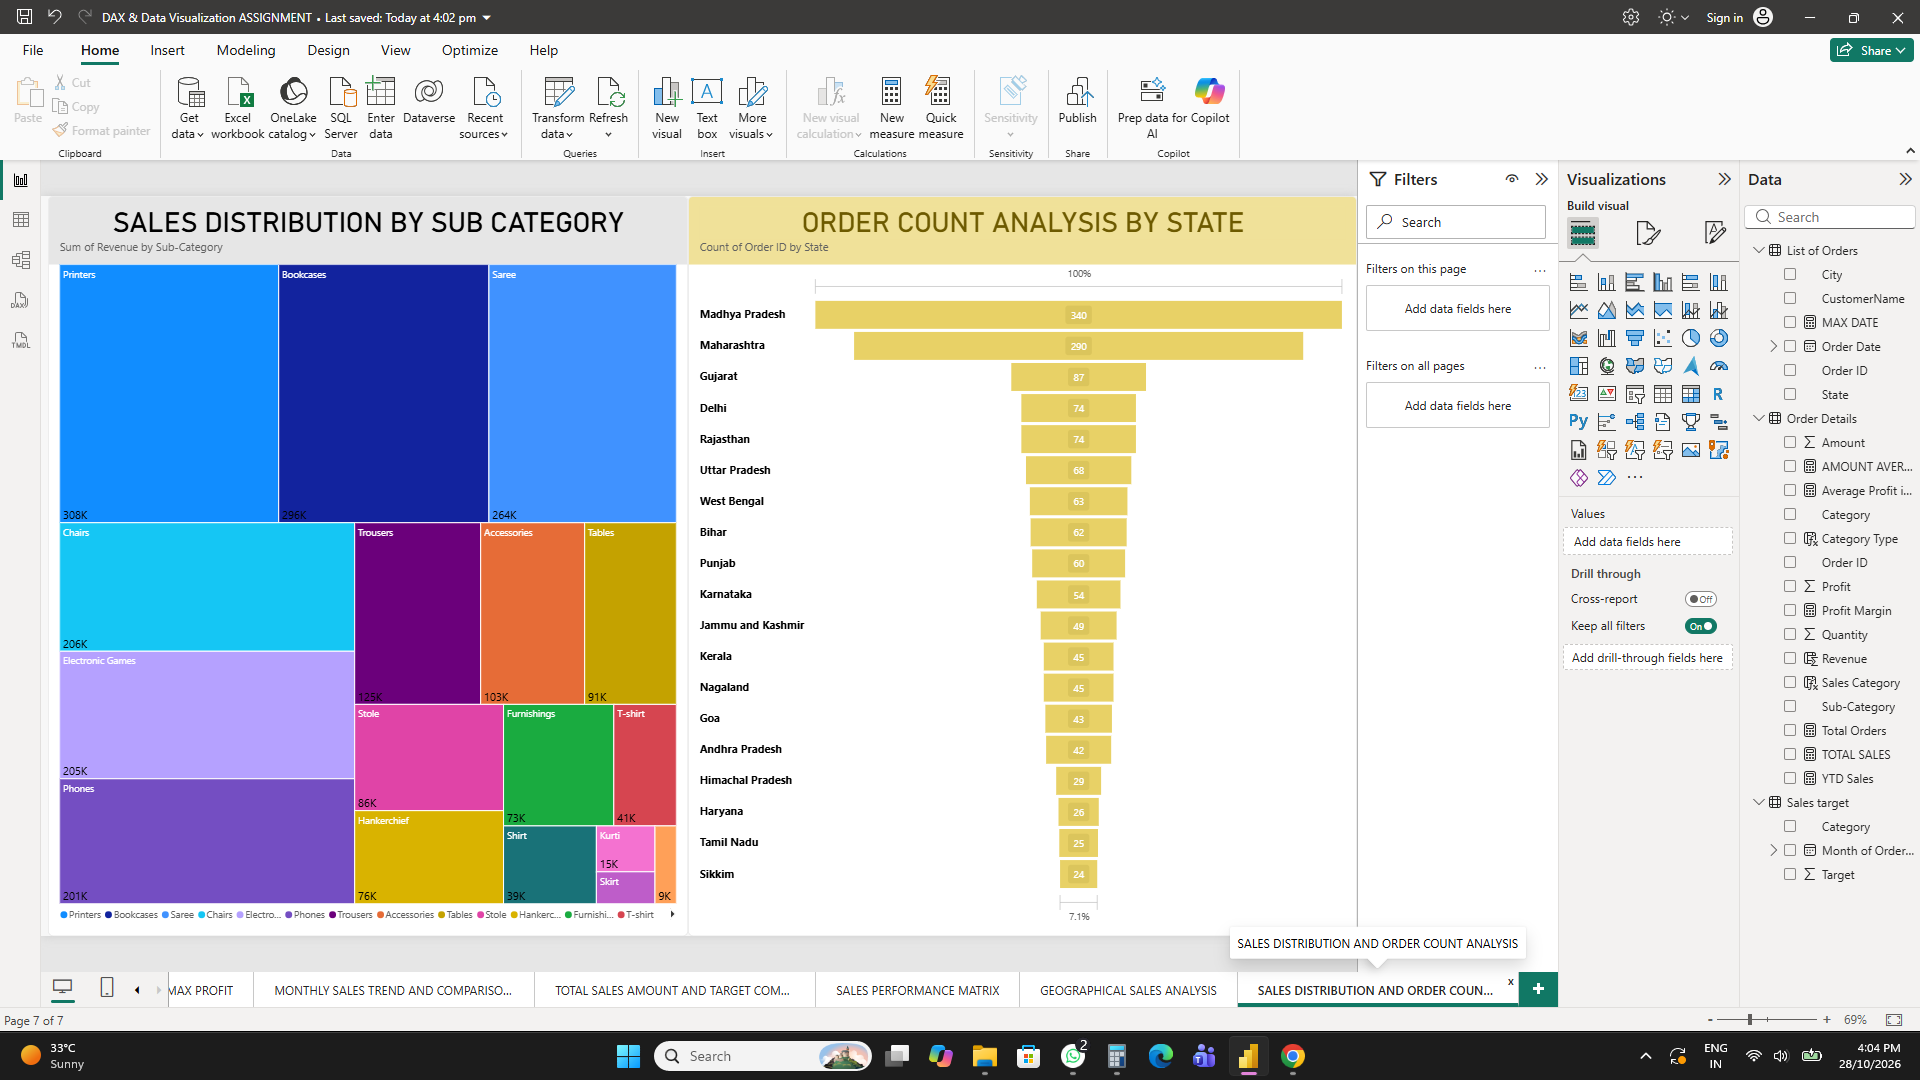

What the dashboard file says about the page in this screenshot:
{"tool":"powerbi","page":{"name":"SALES DISTRIBUTION AND ORDER COUNT ANALYSIS","canvas":[1920,1080],"ordinal":6},"visuals":[{"type":"treemap","title":"SALES DISTRIBUTION BY SUB CATEGORY","fields":{"Group":["Order Details .Sub-Category"],"Values":["Sum(Order Details .Revenue)"]},"box":[10.2,0,933.7,1079.6],"z":0},{"type":"funnel","title":"ORDER COUNT ANALYSIS BY STATE","fields":{"Category":["List of Orders .State"],"Y":["CountNonNull(Order Details .Order ID)"]},"box":[944,0,976,1079.6],"z":1}]}

Visuals, with their boxes on the page's 1920x1080 design canvas (x1, y1, x2, y2). These are canvas units, not pixel positions in the 1920x1080 screenshot, which may show the page scaled, cropped or inside an application window:
"SALES DISTRIBUTION BY SUB CATEGORY" treemap: 10 0 944 1080
"ORDER COUNT ANALYSIS BY STATE" funnel: 944 0 1920 1080
